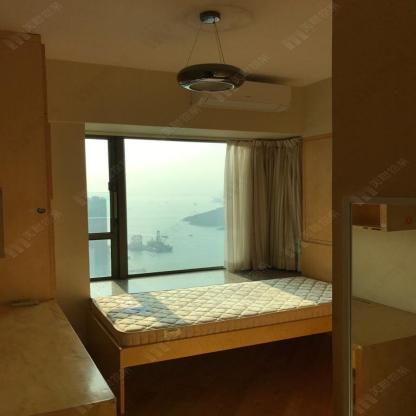Bed: (90, 275, 334, 348)
Windowsill: (84, 122, 302, 299)
